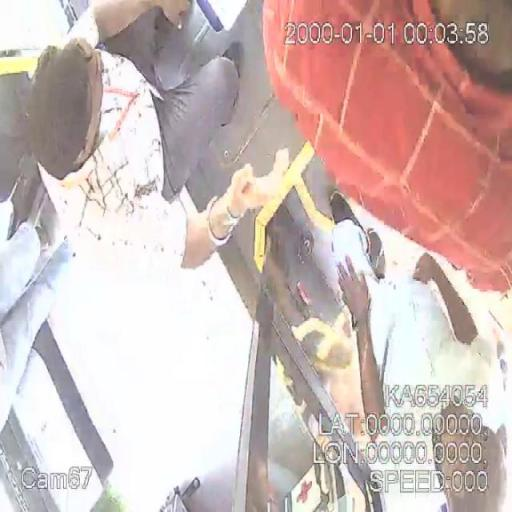persona: (26, 0, 300, 279), (261, 3, 512, 287), (327, 186, 507, 511)
